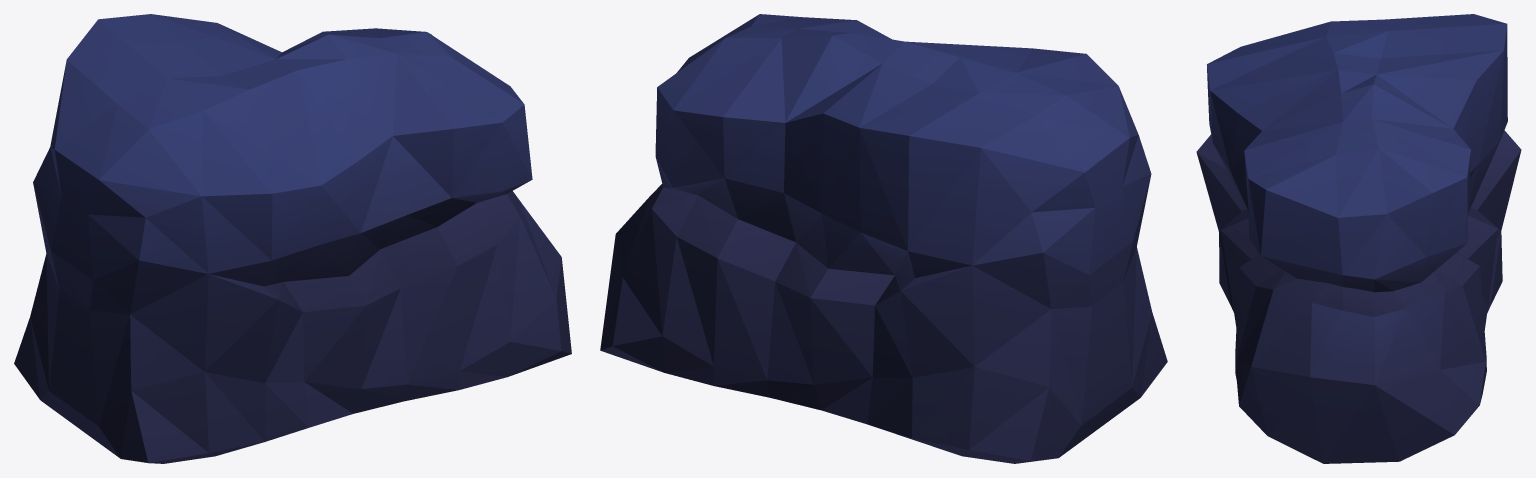
The model's file is caveWallPiece6.fbx.
The picture shows the model from 3 angles, left to right: view 1: azimuth 30°, elevation 25°; view 2: azimuth 150°, elevation 25°; view 3: azimuth 270°, elevation 25°; orthographic projection. The views are drawn at different scales.
Visible parts, largest first — view 1: caveWallPiece6; view 2: caveWallPiece6; view 3: caveWallPiece6.
Part boxes in pixels (left/top/right/bottom): caveWallPiece6: left=14, top=14, right=571, bottom=463; caveWallPiece6: left=600, top=14, right=1167, bottom=463; caveWallPiece6: left=1196, top=14, right=1521, bottom=463.
Bounding box in the file's own units: 1873 × 1340 × 1283.
